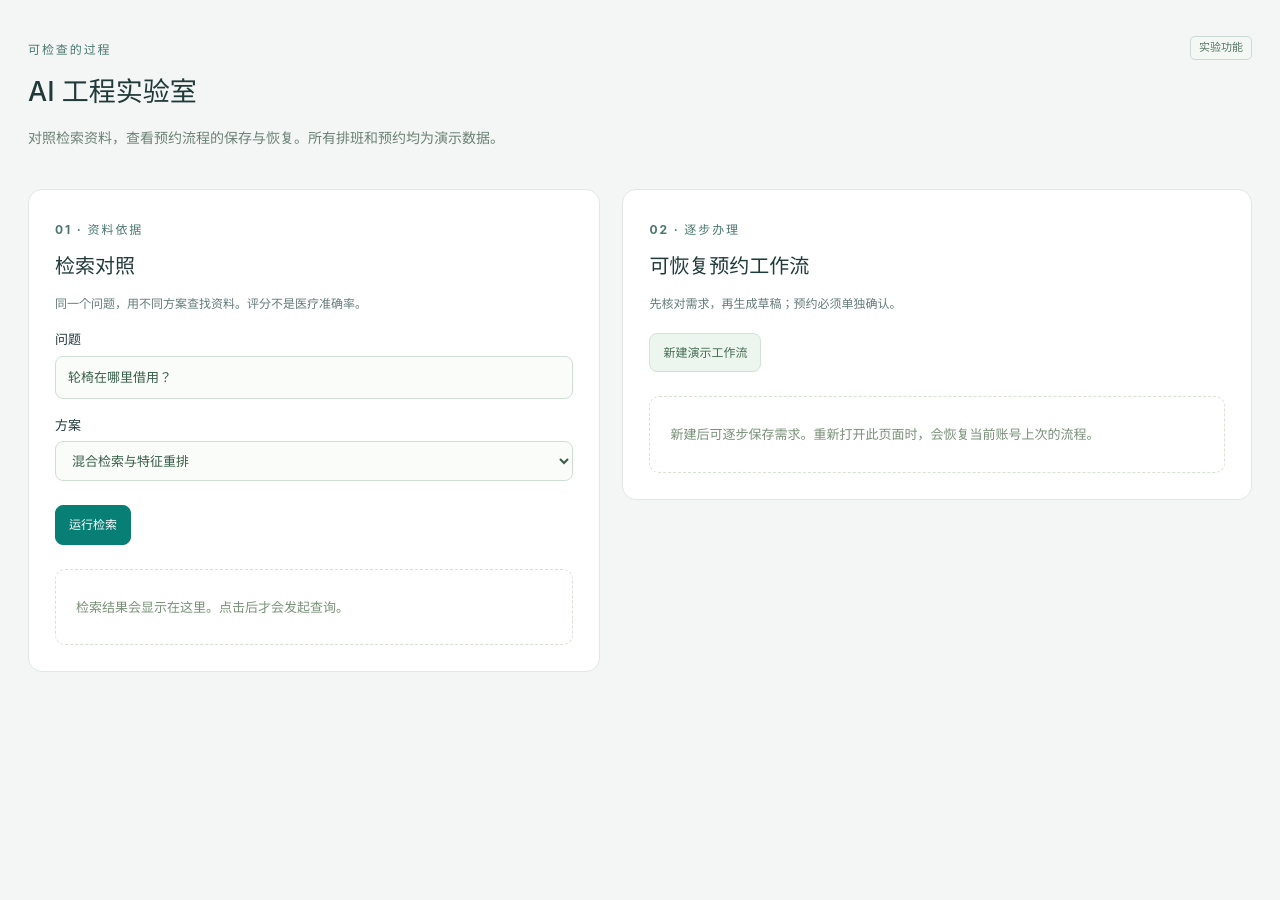
dedicated ranking runs only after explicit selection and click
The width and height of the screenshot is (1280, 900).
Select "专用相关性模型重排（额外调用排序服务）" in the dropdown labelled "方案": (314, 461) [55, 441, 573, 481]
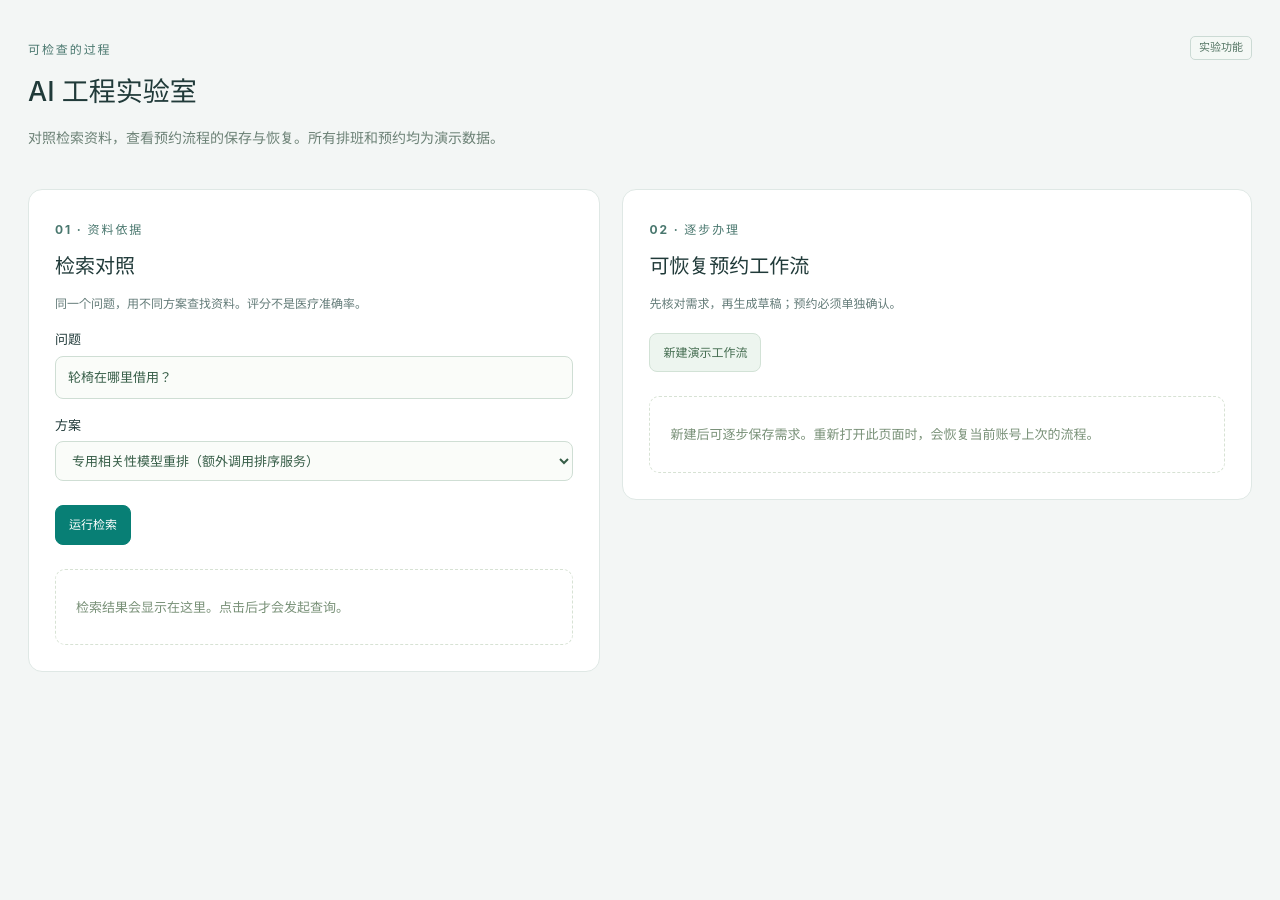
Click the button "运行检索": (93, 525) [55, 505, 131, 544]
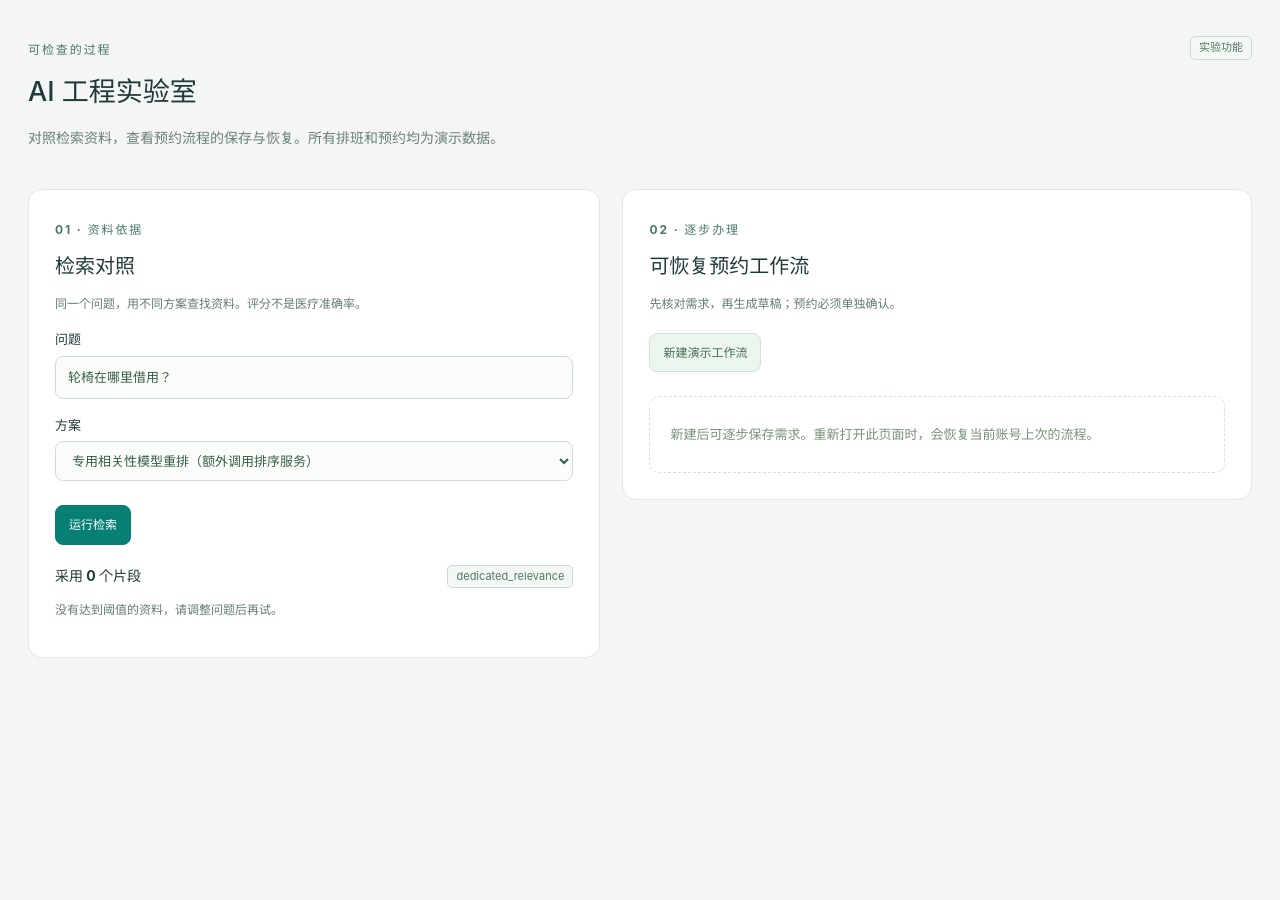
Check: the text "dedicated_relevance" is shown, box [448, 564, 573, 588]
